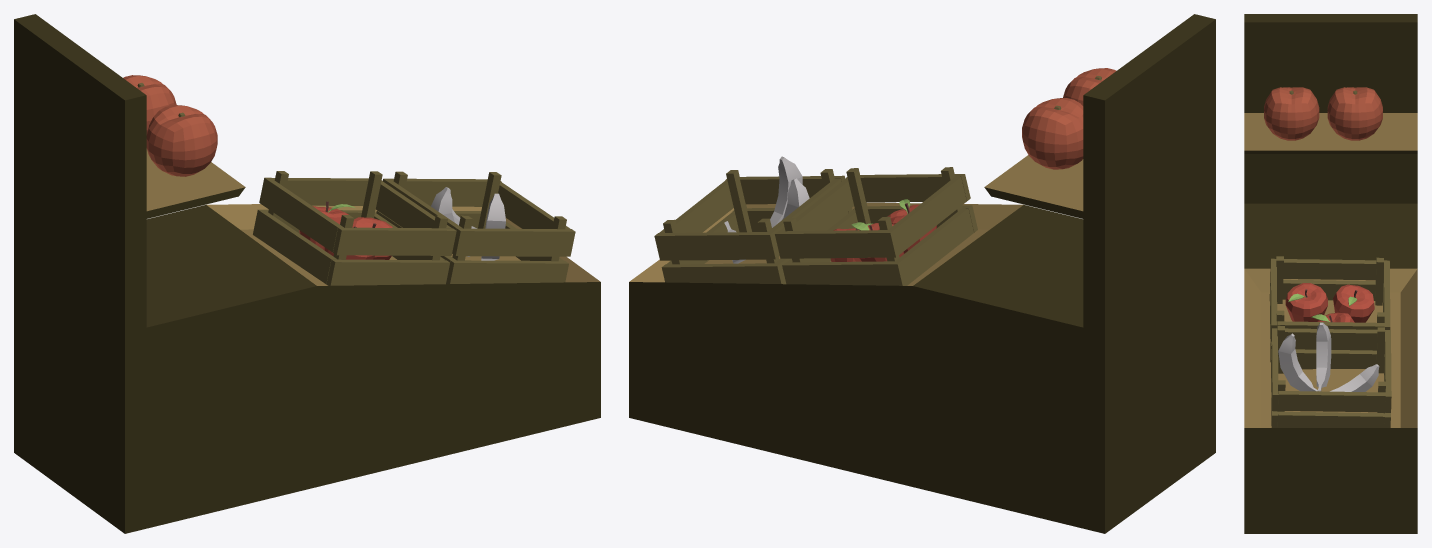
The model's file is shelvesGrocery1.fbx.
3 views of the same model, side by side, from view 1: azimuth 30°, elevation 25°; view 2: azimuth 150°, elevation 25°; view 3: azimuth 270°, elevation 25° (orthographic). The views are drawn at different scales.
Parts seen in each view (by area): view 1: peach_Roundcube.006; view 2: peach_Roundcube.006; view 3: peach_Roundcube.006.
Part boxes in pixels (box(x1,y1,x2,y2)): peach_Roundcube.006: box(14, 14, 600, 533); peach_Roundcube.006: box(629, 14, 1215, 533); peach_Roundcube.006: box(1244, 14, 1417, 533).
Size of the model in its own units: 2022 by 1759 by 816.
